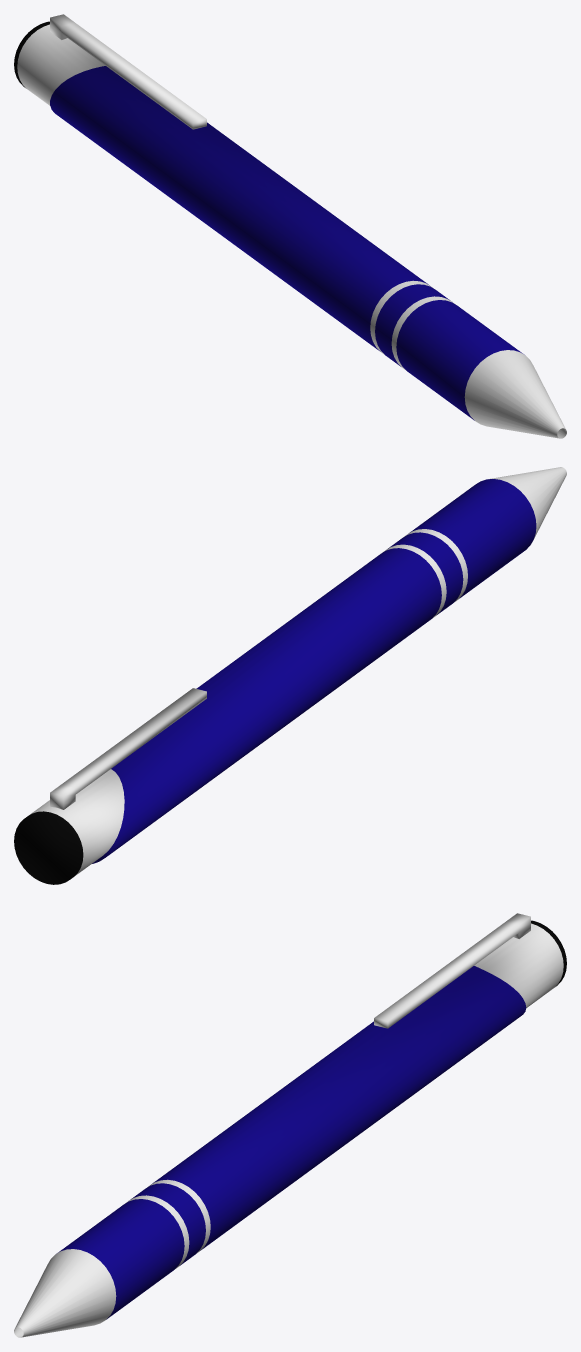
Rendered from dlugopis.fbx.
3 renders of one model, top to bottom at view 1: azimuth 30°, elevation 25°; view 2: azimuth 150°, elevation 25°; view 3: azimuth 330°, elevation 25°, orthographic.
Visible parts, largest first — view 1: Cylinder; view 2: Cylinder; view 3: Cylinder.
Boxes of the visible parts, box(x1,y1,x2,y2) form: Cylinder: box(14, 14, 566, 438); Cylinder: box(14, 467, 566, 884); Cylinder: box(14, 913, 566, 1337).
Bounding box in the file's own units: 200 × 227 × 2488.
